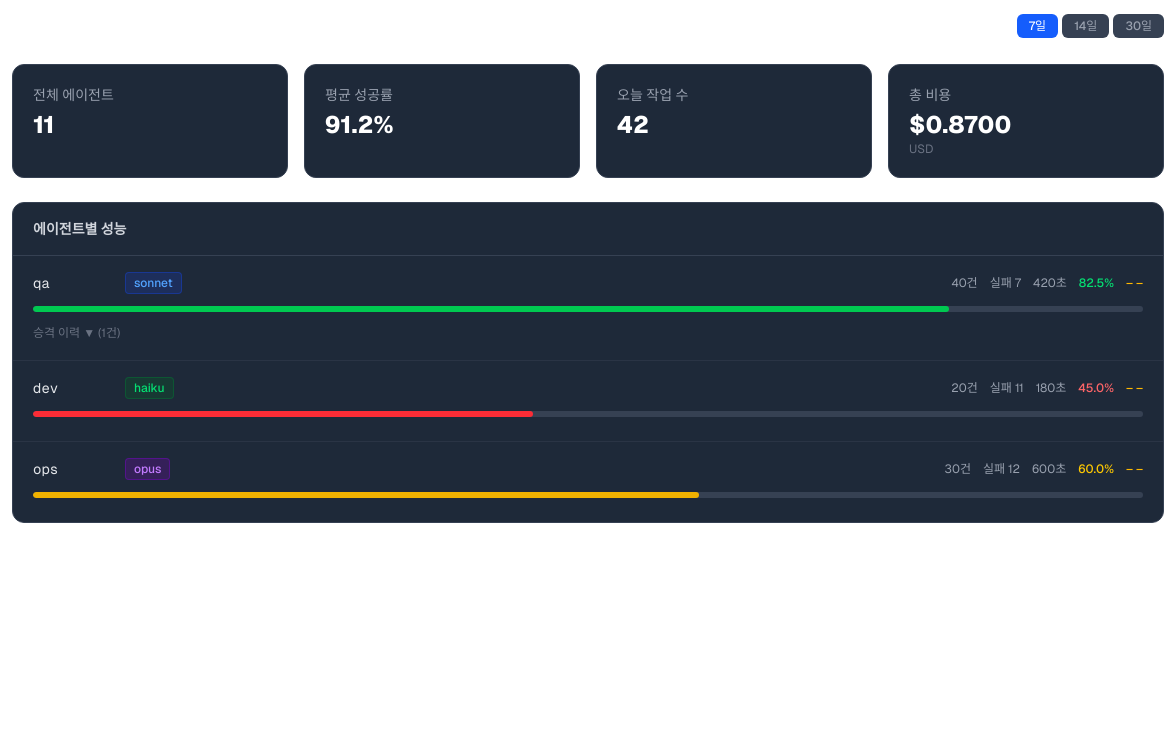
Scenario: AgentPerformance › Promotion history › shows promotion from/to details after expanding
The width and height of the screenshot is (1176, 732).
Step 1. Click the button "승격 이력 ▼ (1건)" → (77, 333), box [33,325,120,341]
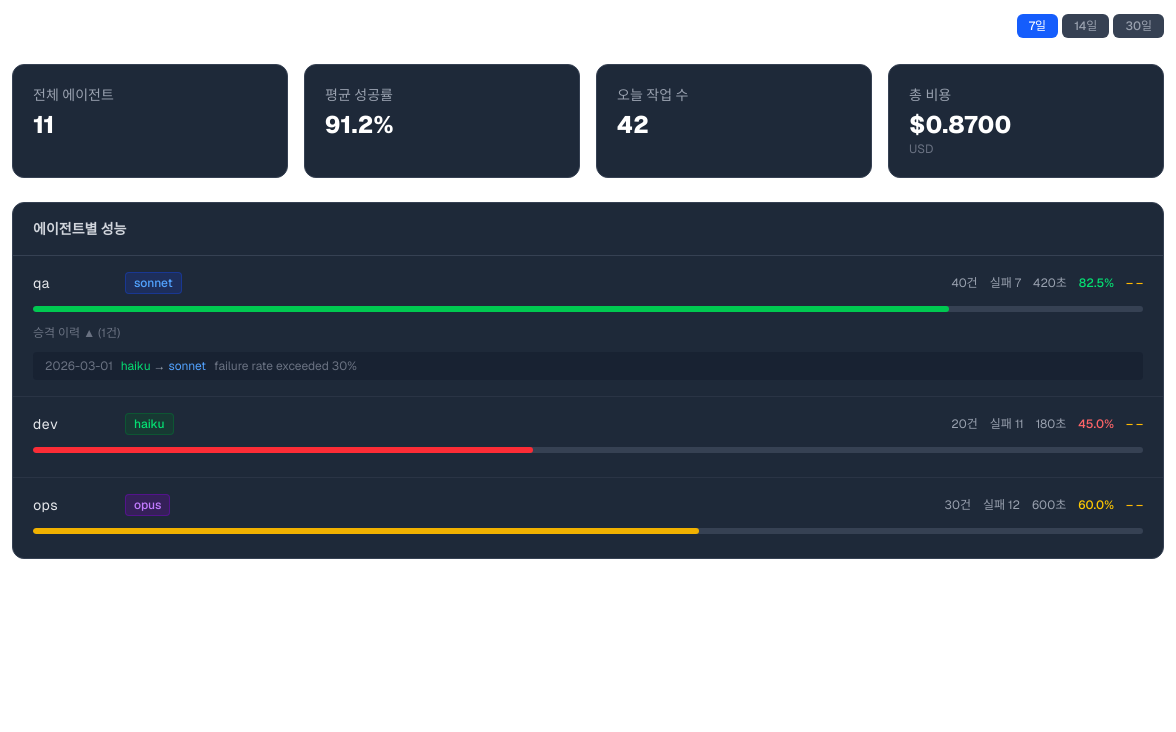
Check: the text "failure rate exceeded 30%" is shown, box [214,358,357,374]
